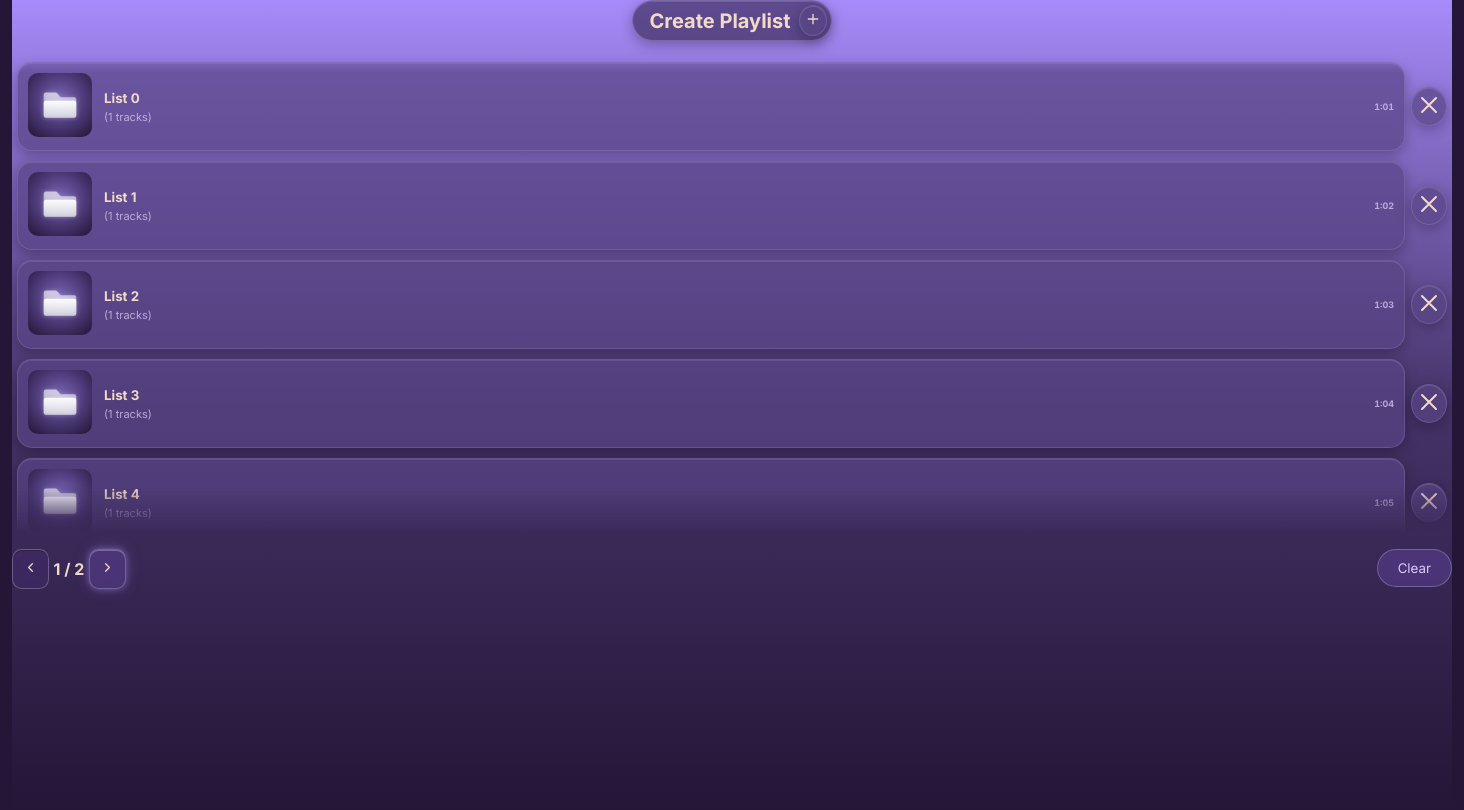
Test: PlaylistSelectionList › folder view › paginates playlists at 10 per page
Expected: the text "List 10" is not shown
Click the 2nd button with alt text "next": (107, 569) 89,549 -> 126,589
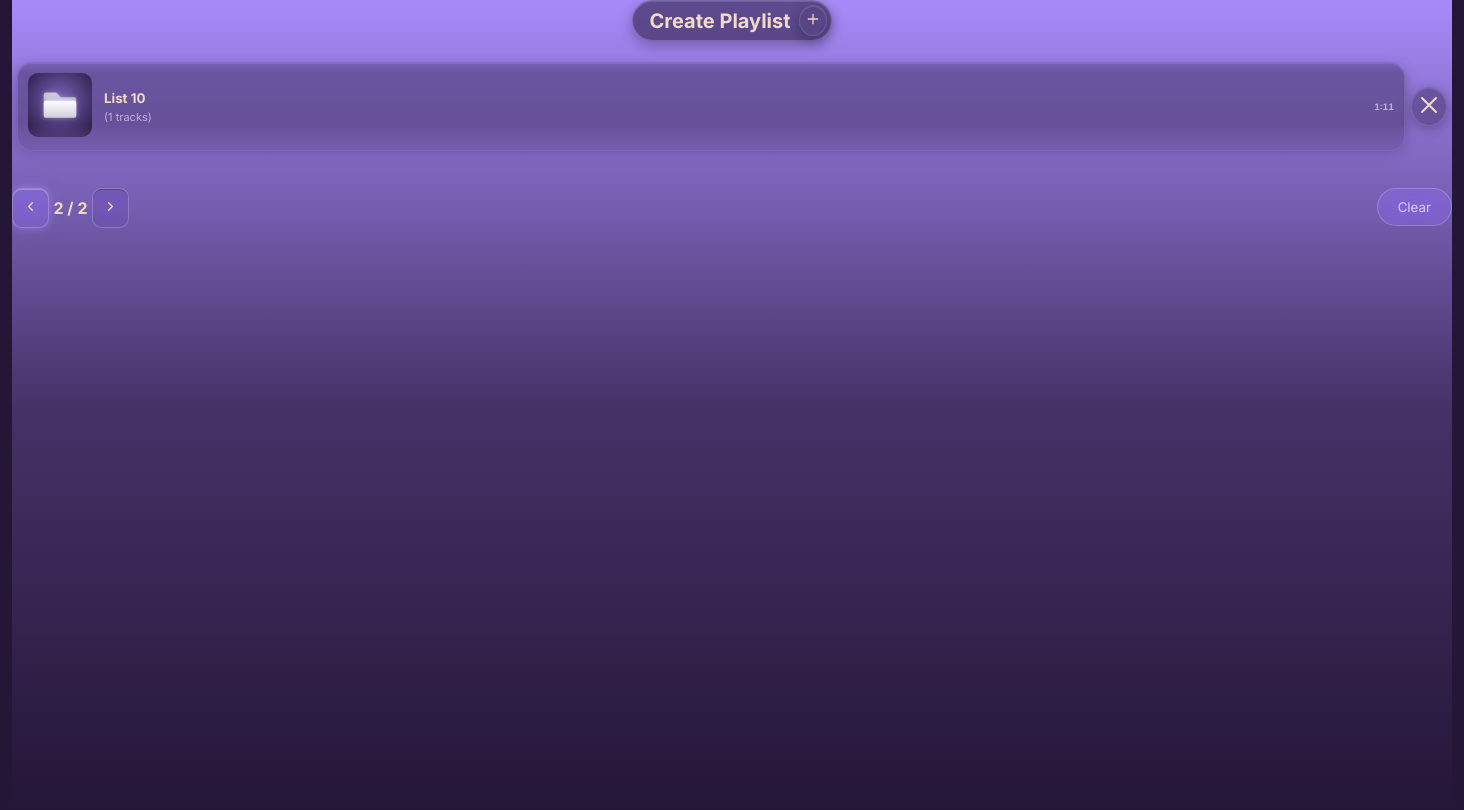
Result: the heading "List 10" is shown at 104,90 -> 145,106
